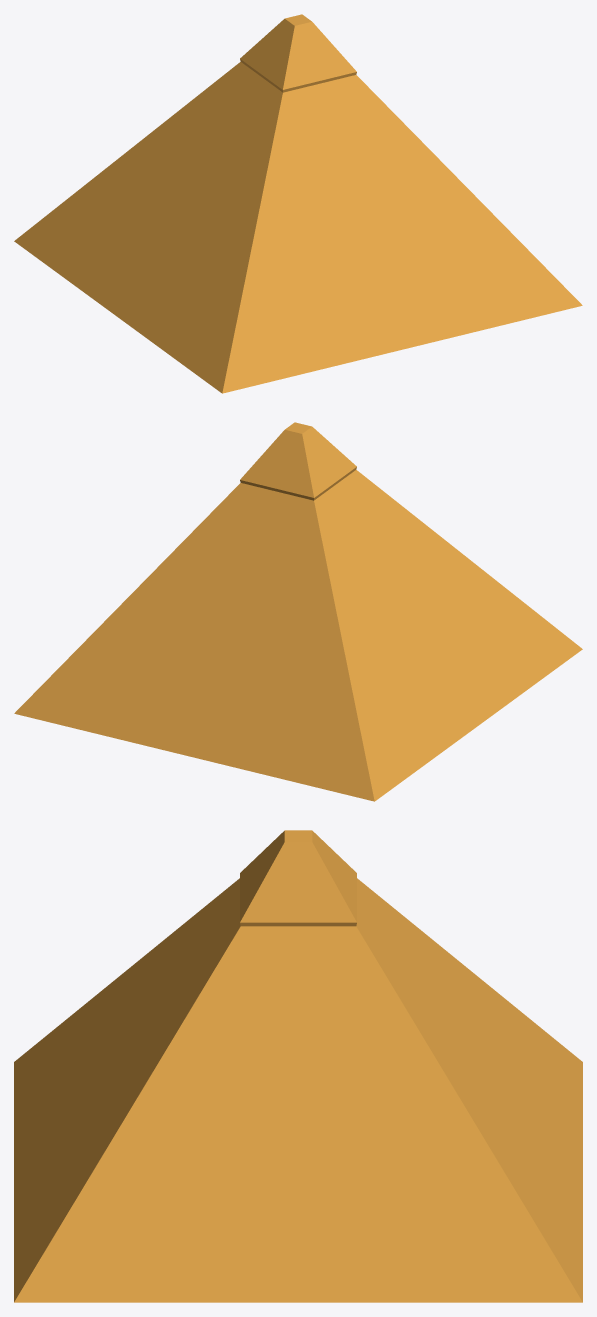
File: egypt-pyramid-new.glb
The picture shows the model from 3 angles, top to bottom: view 1: azimuth 30°, elevation 25°; view 2: azimuth 150°, elevation 25°; view 3: azimuth 270°, elevation 25°; orthographic projection. The views are drawn at different scales.
Parts seen in each view (by area): view 1: pyramid-new; view 2: pyramid-new; view 3: pyramid-new.
Boxes of the visible parts, x1=… form: pyramid-new: x1=14, y1=14, x2=582, y2=393; pyramid-new: x1=14, y1=422, x2=582, y2=801; pyramid-new: x1=14, y1=830, x2=582, y2=1302.
Size of the model in its own units: 60 by 40.27 by 60.
